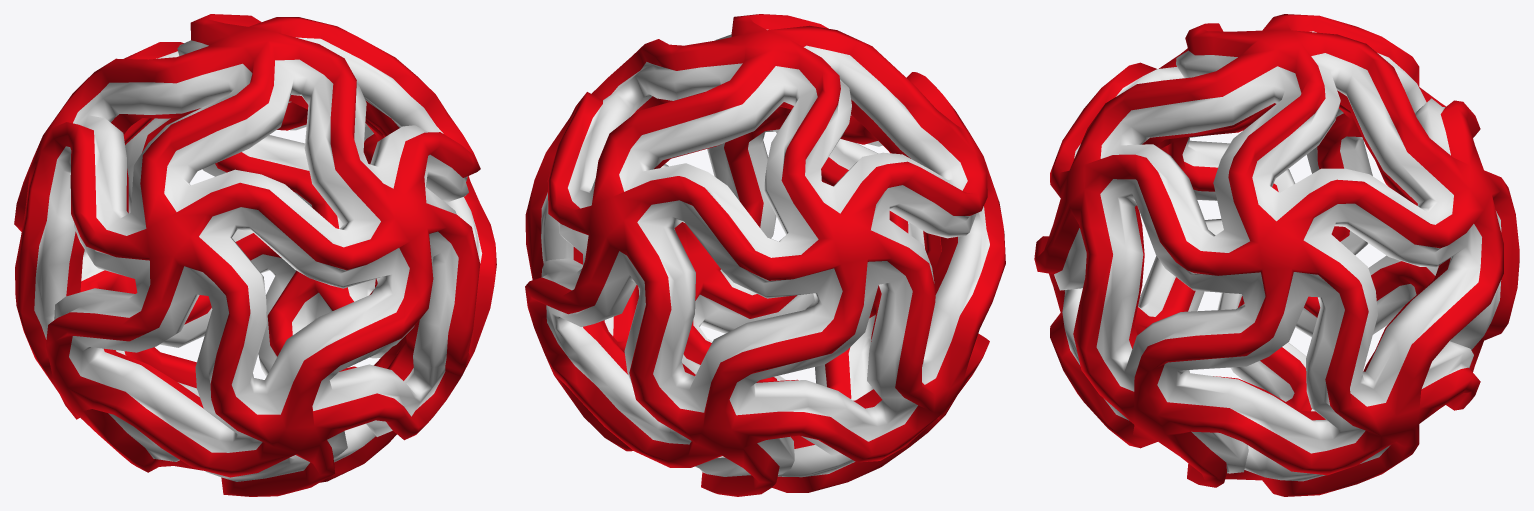
Rendered from Star Ball_new_02.fbx.
The picture shows the model from 3 angles, left to right: view 1: azimuth 30°, elevation 25°; view 2: azimuth 150°, elevation 25°; view 3: azimuth 270°, elevation 25°; orthographic projection.
Parts seen in each view (by area): view 1: Icosphere; view 2: Icosphere; view 3: Icosphere.
Part boxes in pixels (x1,y1,x2,y2): Icosphere: [14, 14, 496, 496]; Icosphere: [525, 14, 1005, 496]; Icosphere: [1034, 14, 1519, 496].
Bounding box in the file's own units: 4.74 × 4.74 × 4.78.
